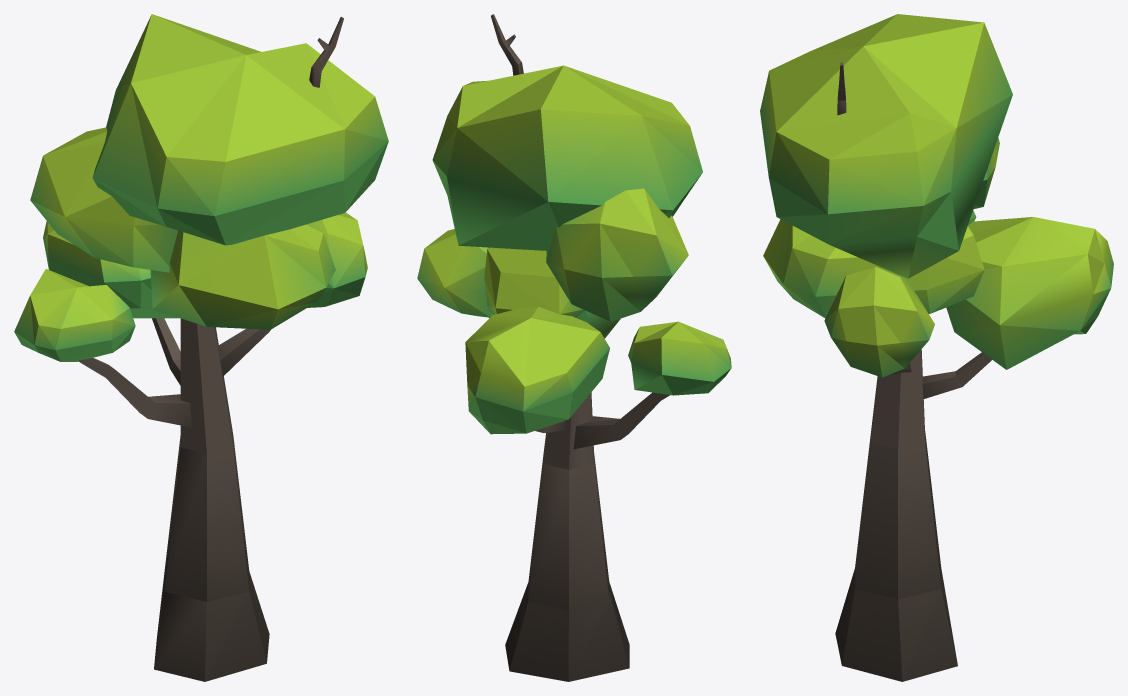
File: tree_3.FBX
3 views of the same model, side by side, from view 1: azimuth 30°, elevation 25°; view 2: azimuth 150°, elevation 25°; view 3: azimuth 270°, elevation 25° (orthographic). The views are drawn at different scales.
Visible parts, largest first — view 1: tree_3; view 2: tree_3; view 3: tree_3.
Part boxes in pixels (x1,y1,x2,y2): tree_3: (14, 14, 388, 681); tree_3: (417, 14, 731, 681); tree_3: (760, 14, 1113, 681).
Bounding box in the file's own units: 131 × 245 × 123.
